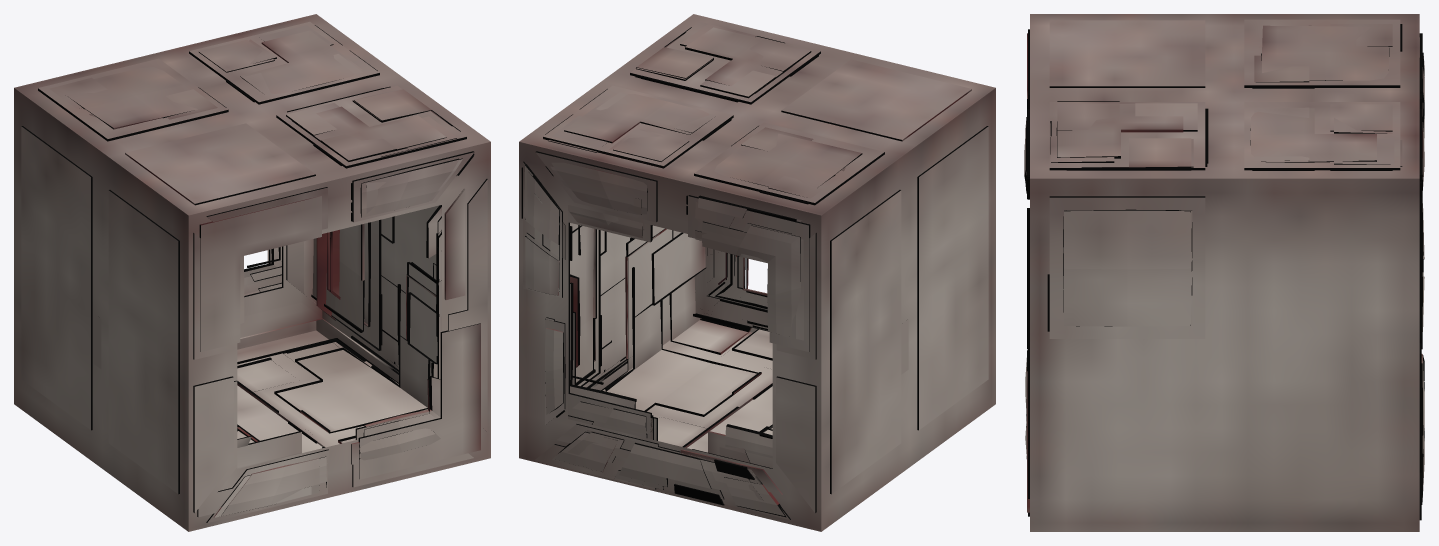
File: objet_anneau.gltf
3 views of the same model, side by side, from view 1: azimuth 30°, elevation 25°; view 2: azimuth 150°, elevation 25°; view 3: azimuth 270°, elevation 25° (orthographic). The views are drawn at different scales.
Visible parts, largest first — view 1: Cube_Baked; view 2: Cube_Baked; view 3: Cube_Baked.
Boxes of the visible parts, x1,y1,x2,y2 form: Cube_Baked: (14,14,490,531); Cube_Baked: (519,14,995,531); Cube_Baked: (1024,14,1424,531).
Bounding box in the file's own units: 2.04 × 2.05 × 2.05.
1 material, 1 textured.
